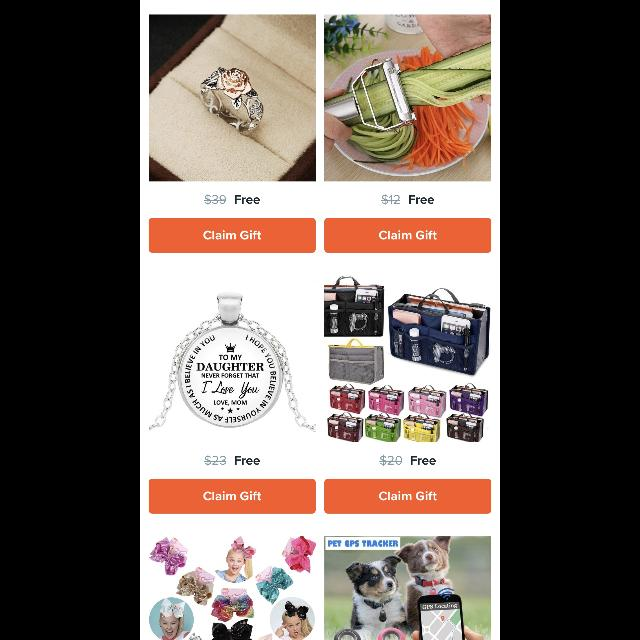image: (324, 15, 492, 182), (148, 15, 316, 182), (325, 276, 491, 442), (148, 292, 316, 432), (324, 536, 492, 640), (148, 536, 316, 640)
text: (204, 454, 226, 466), (380, 454, 402, 466), (204, 193, 226, 205), (382, 194, 401, 206), (410, 456, 436, 464), (236, 456, 260, 464), (236, 196, 260, 204), (410, 196, 434, 204)
textbutton: (148, 478, 316, 514), (324, 478, 492, 514), (324, 218, 492, 254), (148, 218, 316, 254)
